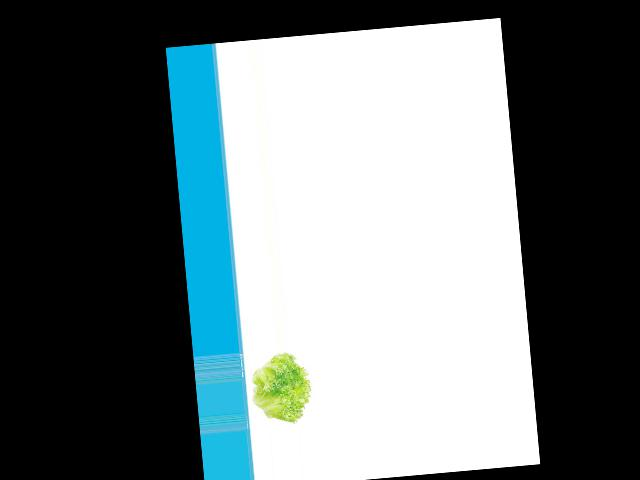lettuce: (244, 350, 315, 425)
